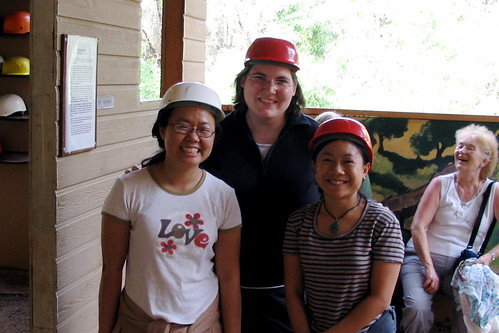hardhat: (2, 9, 32, 39), (2, 54, 33, 76), (1, 94, 29, 116)
person hardhat: (100, 83, 248, 333), (226, 31, 329, 327), (299, 118, 403, 333)
